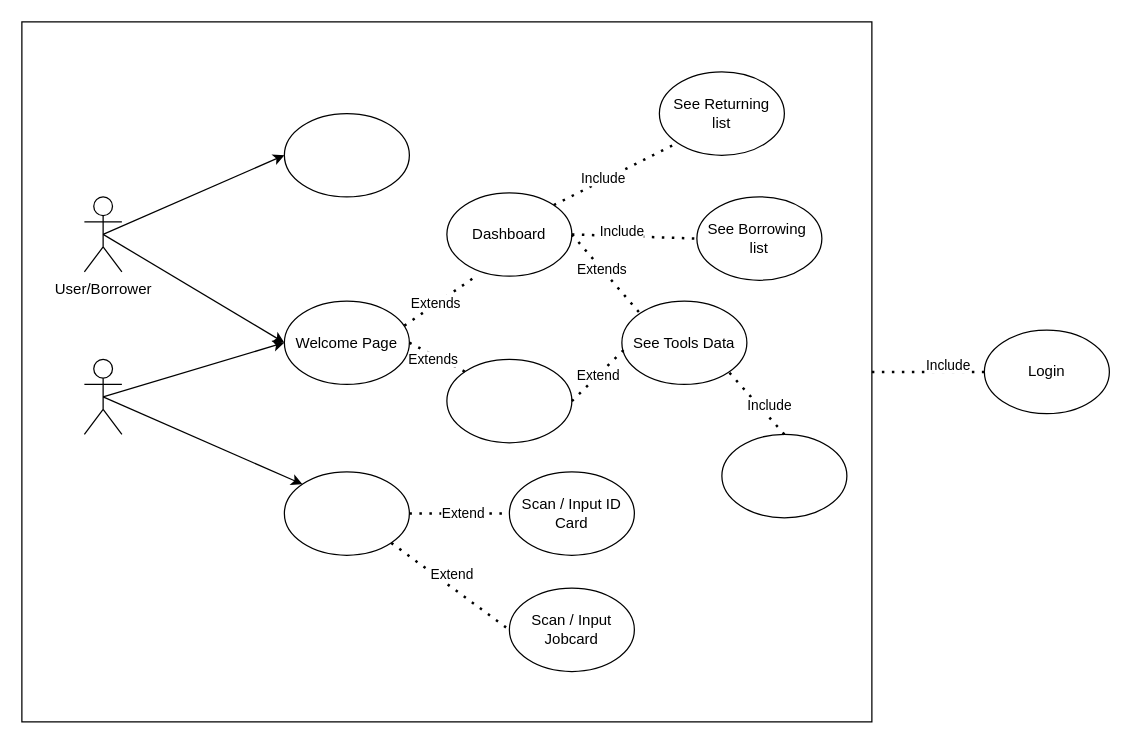
The diagram is 1131 pixels wide and 744 high, and some of its shapes have lost their labels. The shapes that lost their labels are listed below. From the top down, each one's box as (x1, y1, x2, y2) in pixels, then its label:
(283, 112, 409, 197): Booking Tools
(83, 358, 122, 434): Store admin
(446, 358, 572, 443): See Master Data
(721, 433, 847, 518): See Product Details
(283, 471, 409, 555): Booking List
